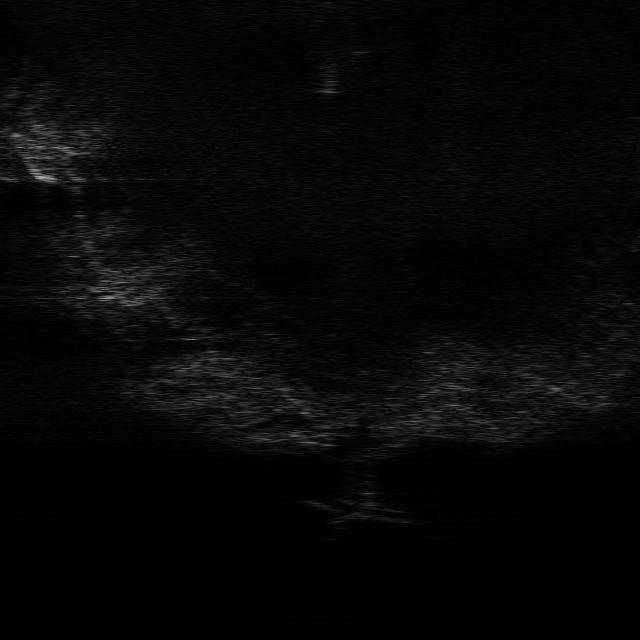plane: (302, 496, 413, 525)
